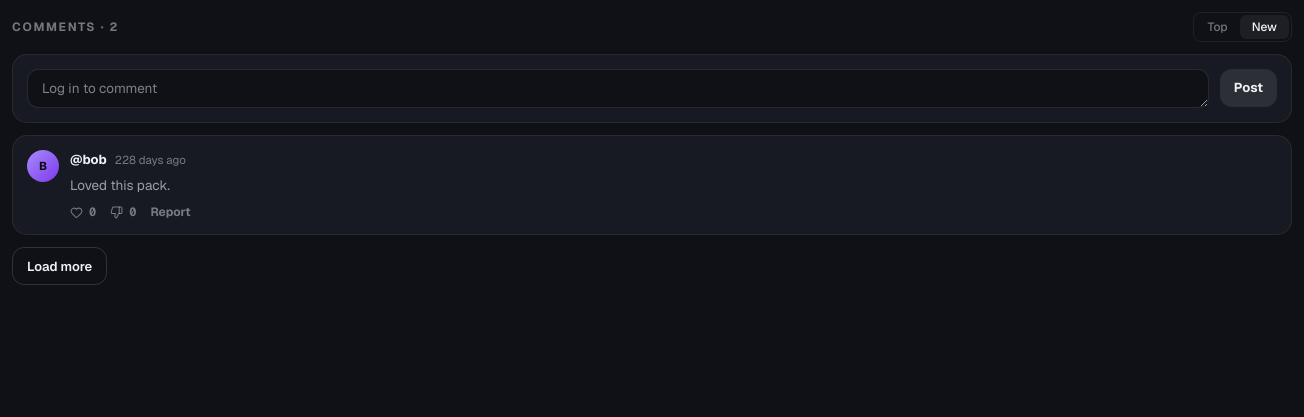
it: CommentSection › filters out a comment the next page re-returns after a post shifted server offsets
Check: the text "Loved this pack." is shown, box [70,176,170,194]
Click the button "Load more" at (60, 266), box [12,247,107,285]
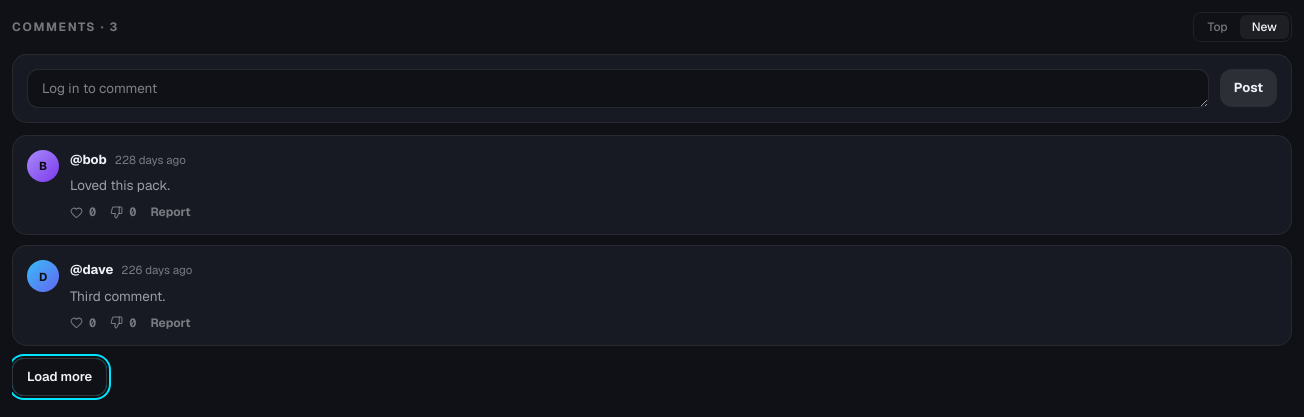
Check: the text "Third comment." is shown, box [70,287,165,305]
Check: the text "Loved this pack." is shown once, box [70,176,170,194]
